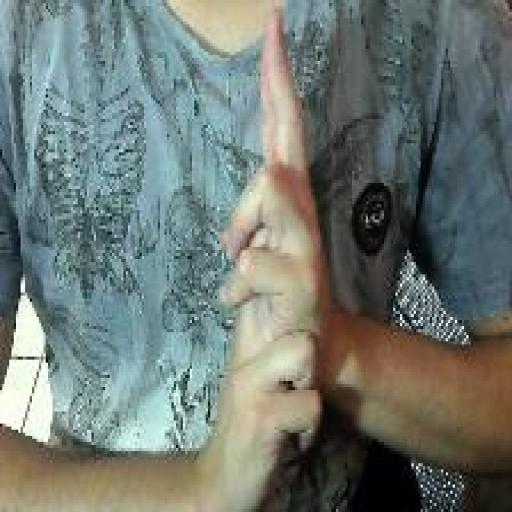Hitsuji -ram-: (212, 3, 334, 509)
